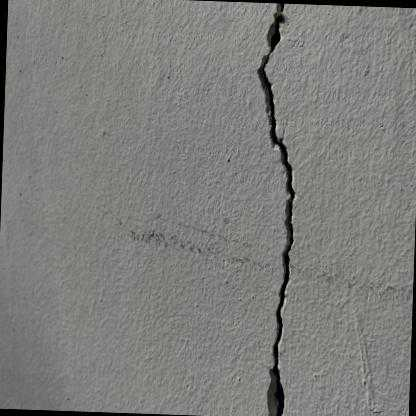crack: (262, 2, 294, 416)
